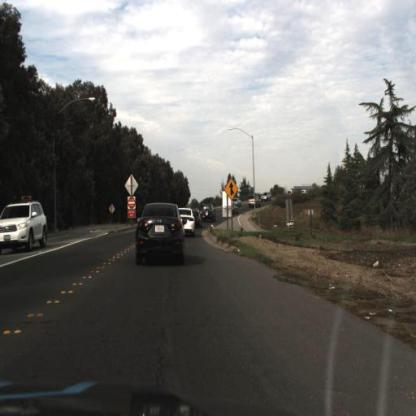car: (134, 201, 186, 270), (0, 200, 48, 254), (178, 204, 194, 240), (178, 206, 194, 235), (201, 200, 216, 224), (247, 191, 262, 210), (228, 197, 239, 217)
